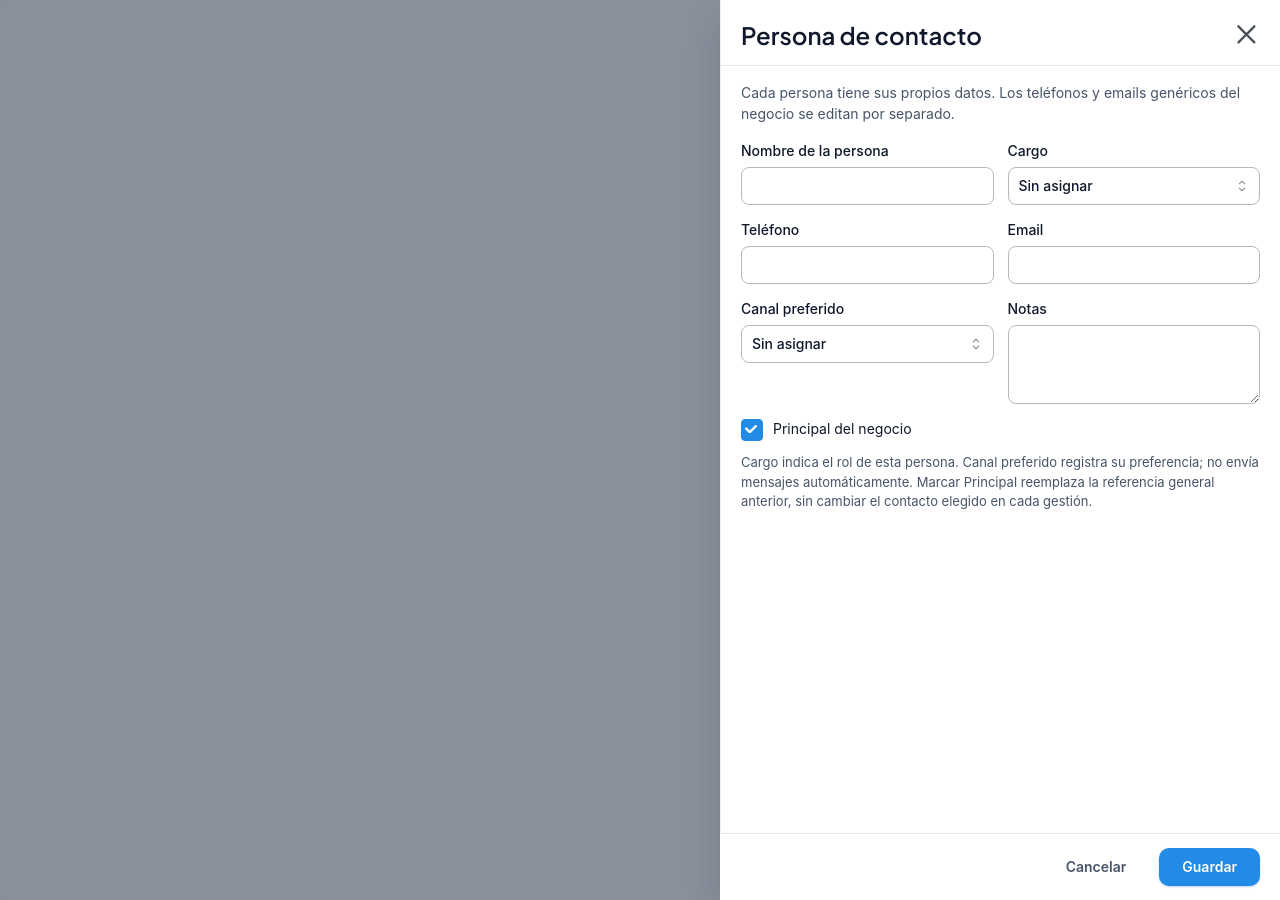
Scenario: CommercialEditor › warns about a person phone of a No contactar business (never the own one) and enables saving once acknowledged
The image size is (1280, 900).
Type "Luis" into the field labelled "Nombre de la persona".
click(867, 186); type("Luis")  # box x1=741 y1=167 x2=994 y2=205
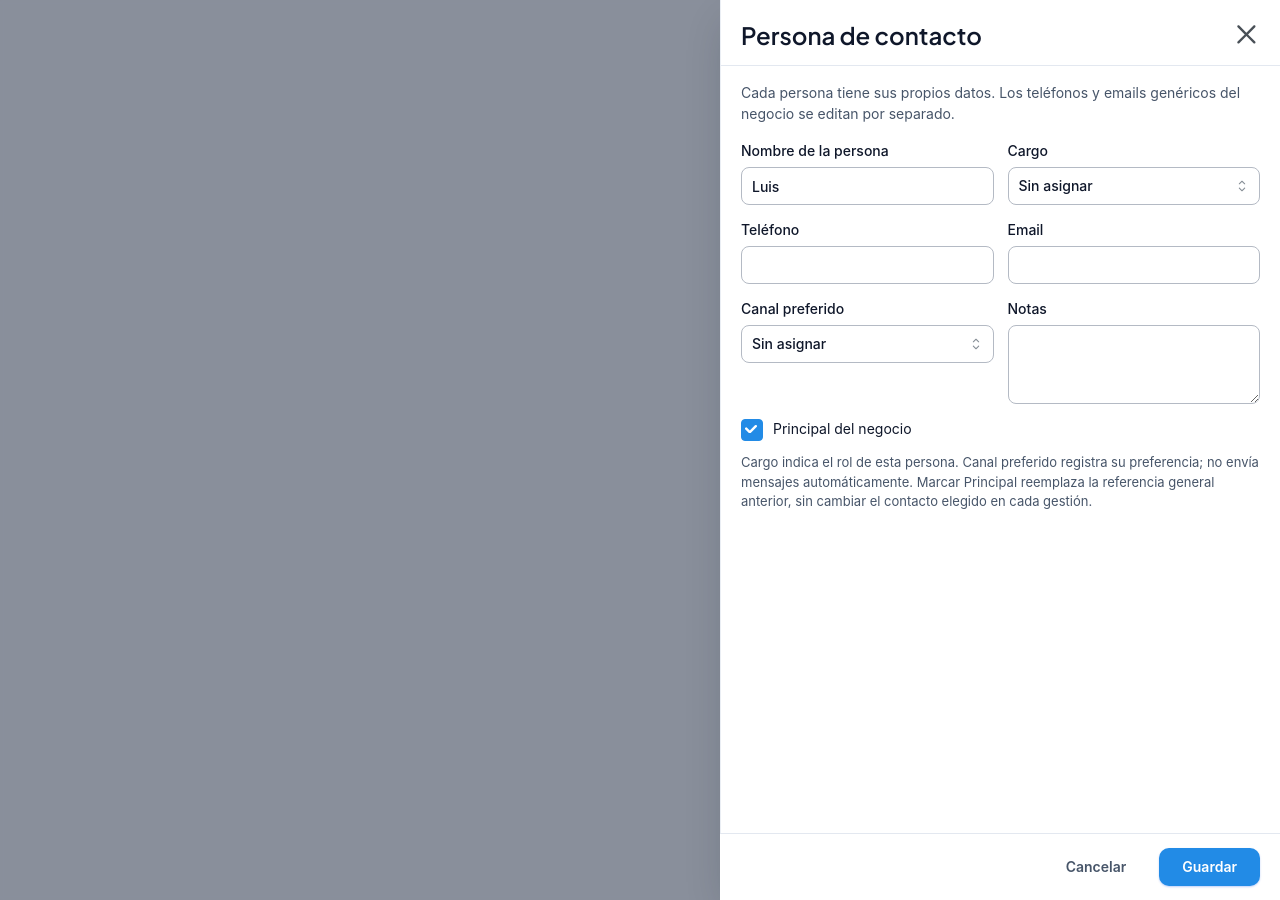
Type "3447 412345" into the field labelled "Teléfono".
click(867, 265); type("3447 412345")  # box x1=741 y1=246 x2=994 y2=284
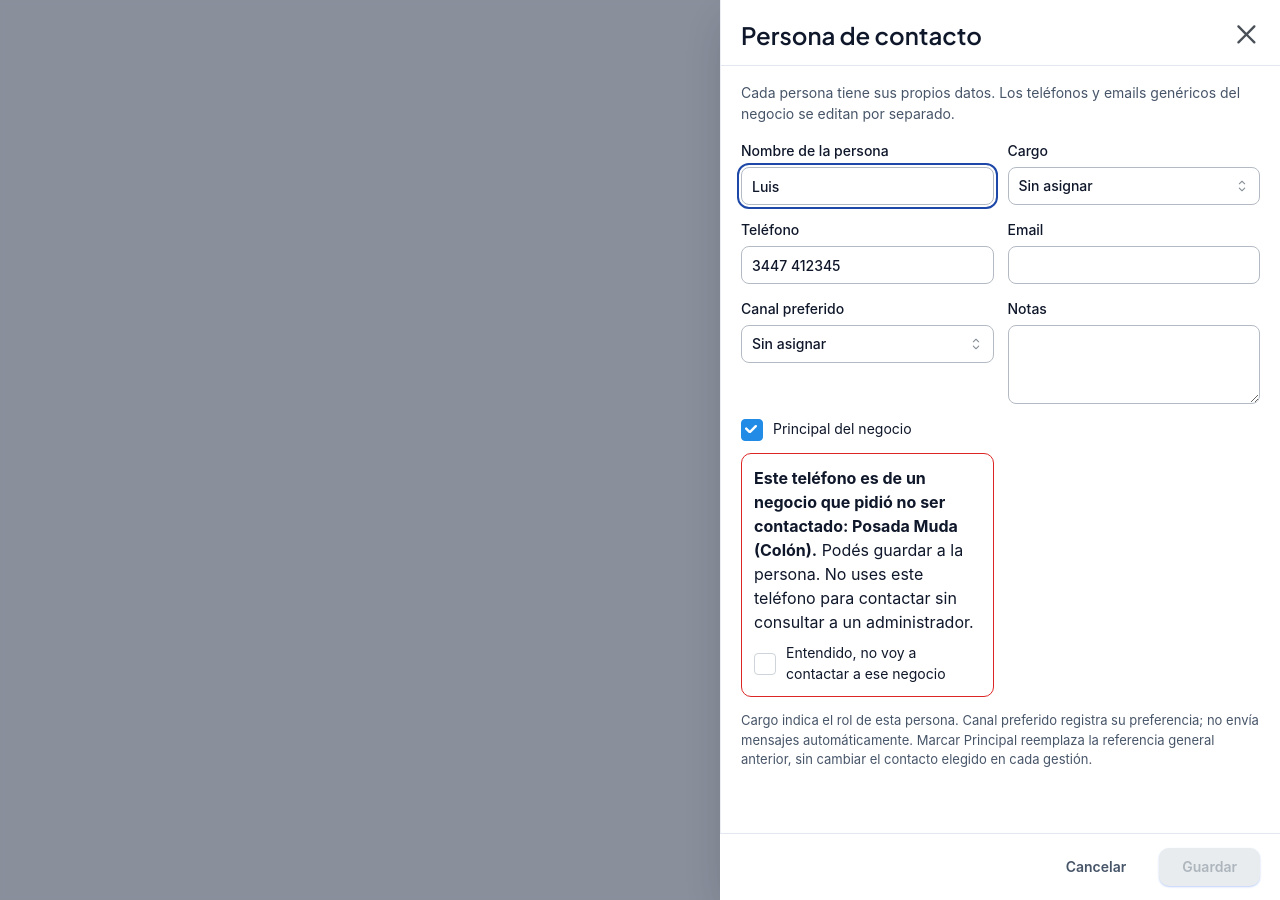
Now the element named "Teléfono de un negocio No contactar" shows "Posada Muda (Colón)", box x1=754 y1=516 x2=958 y2=560
Now the button "Guardar" is disabled, box x1=1159 y1=848 x2=1260 y2=886
Click the checkbox labelled "Entendido, no voy a contactar a ese negocio".
click(765, 664)  # box x1=754 y1=653 x2=776 y2=675
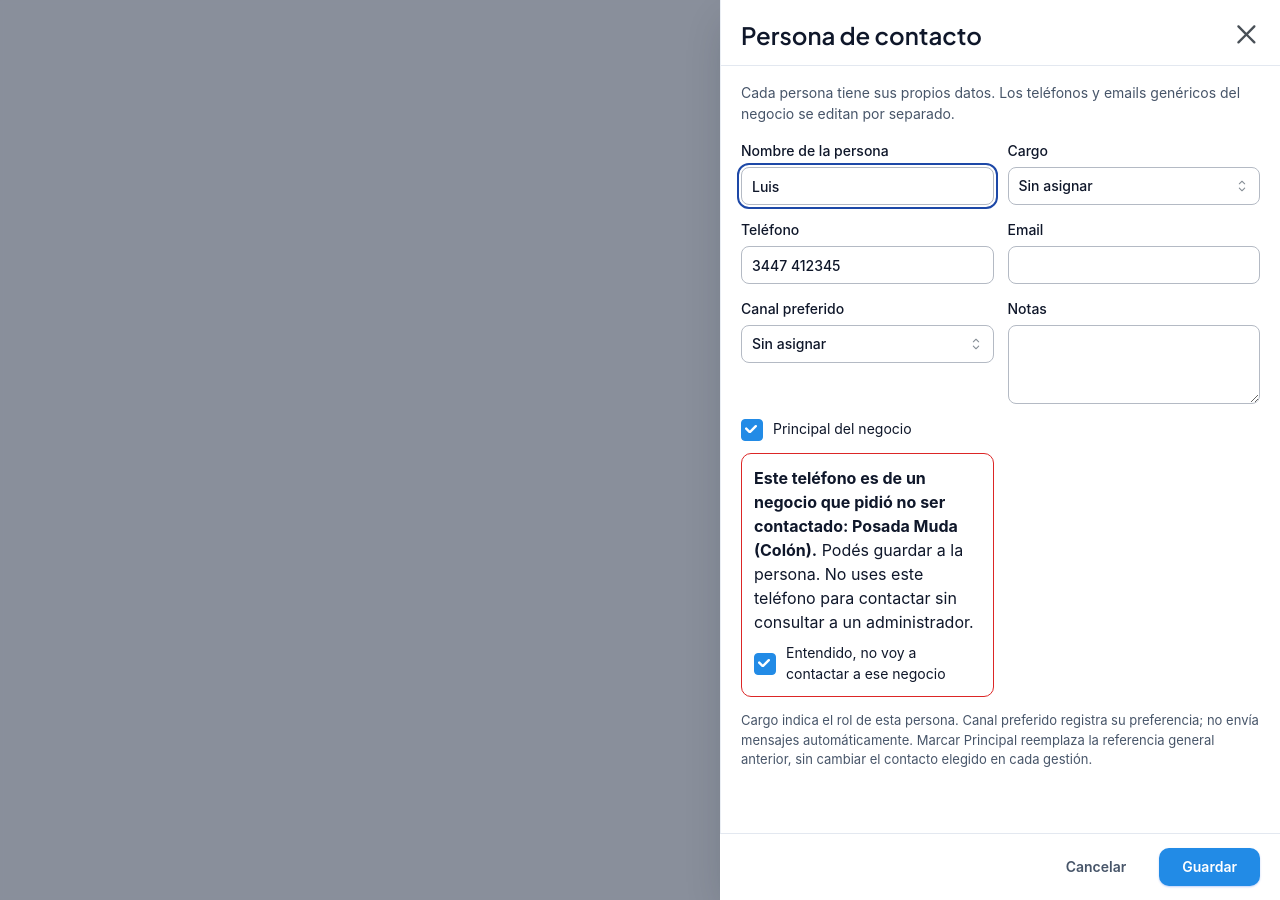
Now the button "Guardar" is enabled, box x1=1159 y1=848 x2=1260 y2=886
